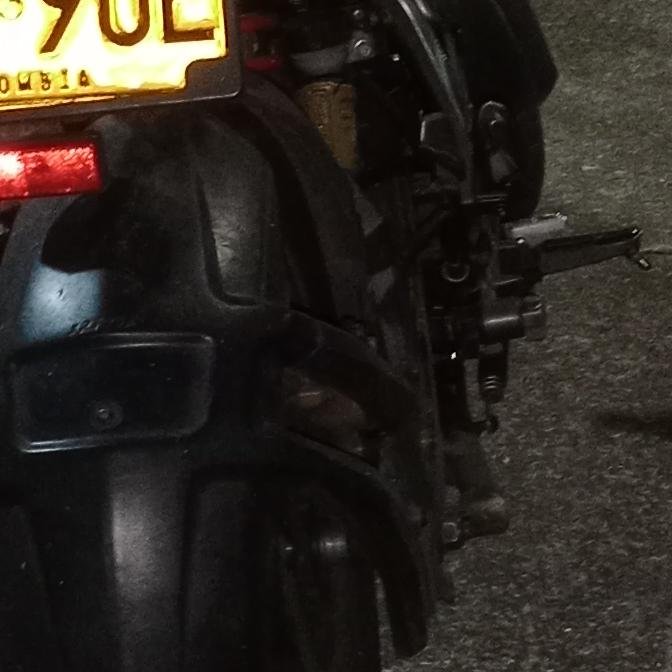plates: (0, 0, 239, 122)
